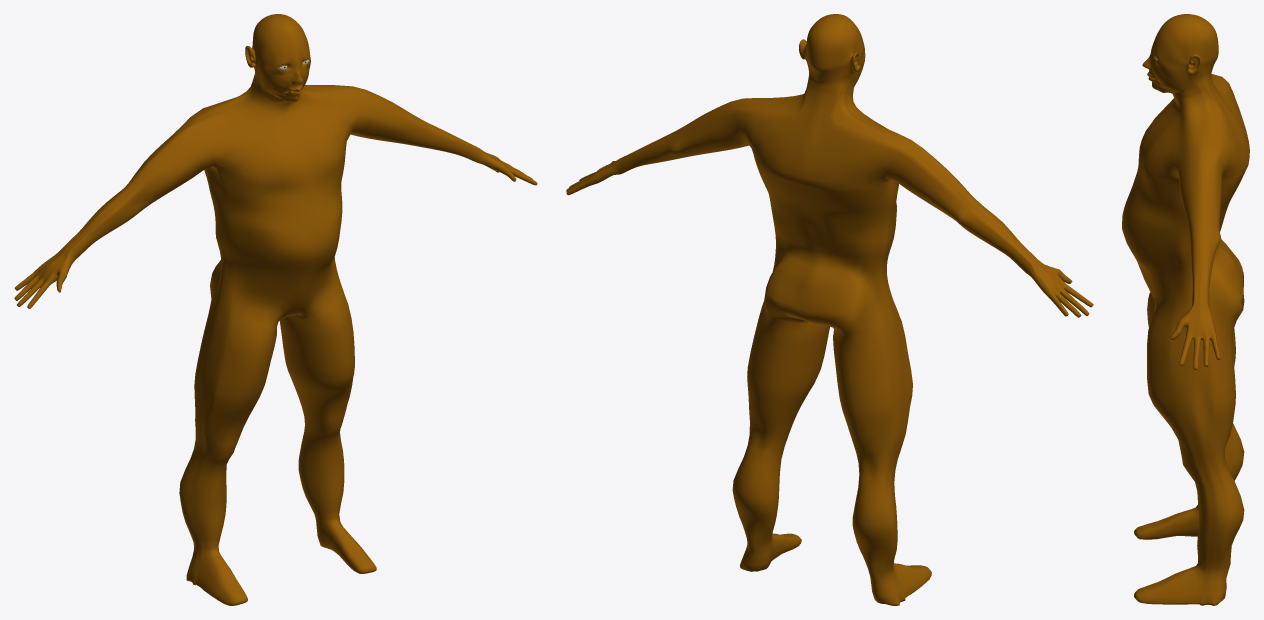
Rendered from Billy2.fbx.
3 views of the same model, side by side, from view 1: azimuth 30°, elevation 25°; view 2: azimuth 150°, elevation 25°; view 3: azimuth 270°, elevation 25° (orthographic).
Visible parts, largest first — view 1: Cuerpo1_vtx_791_1; view 2: Cuerpo1_vtx_791_1; view 3: Cuerpo1_vtx_791_1.
Part boxes in pixels (x1,y1,x2,y2): Cuerpo1_vtx_791_1: [14, 14, 537, 605]; Cuerpo1_vtx_791_1: [566, 14, 1093, 605]; Cuerpo1_vtx_791_1: [1122, 14, 1249, 605].
Bounding box in the file's own units: 11.41 × 11.72 × 2.47.
